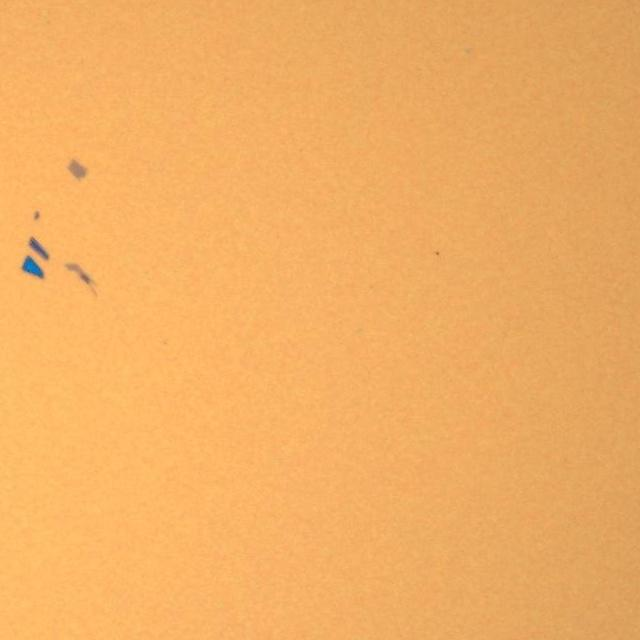monolayer-eWW4: (67, 157, 89, 180), (63, 260, 82, 275)
